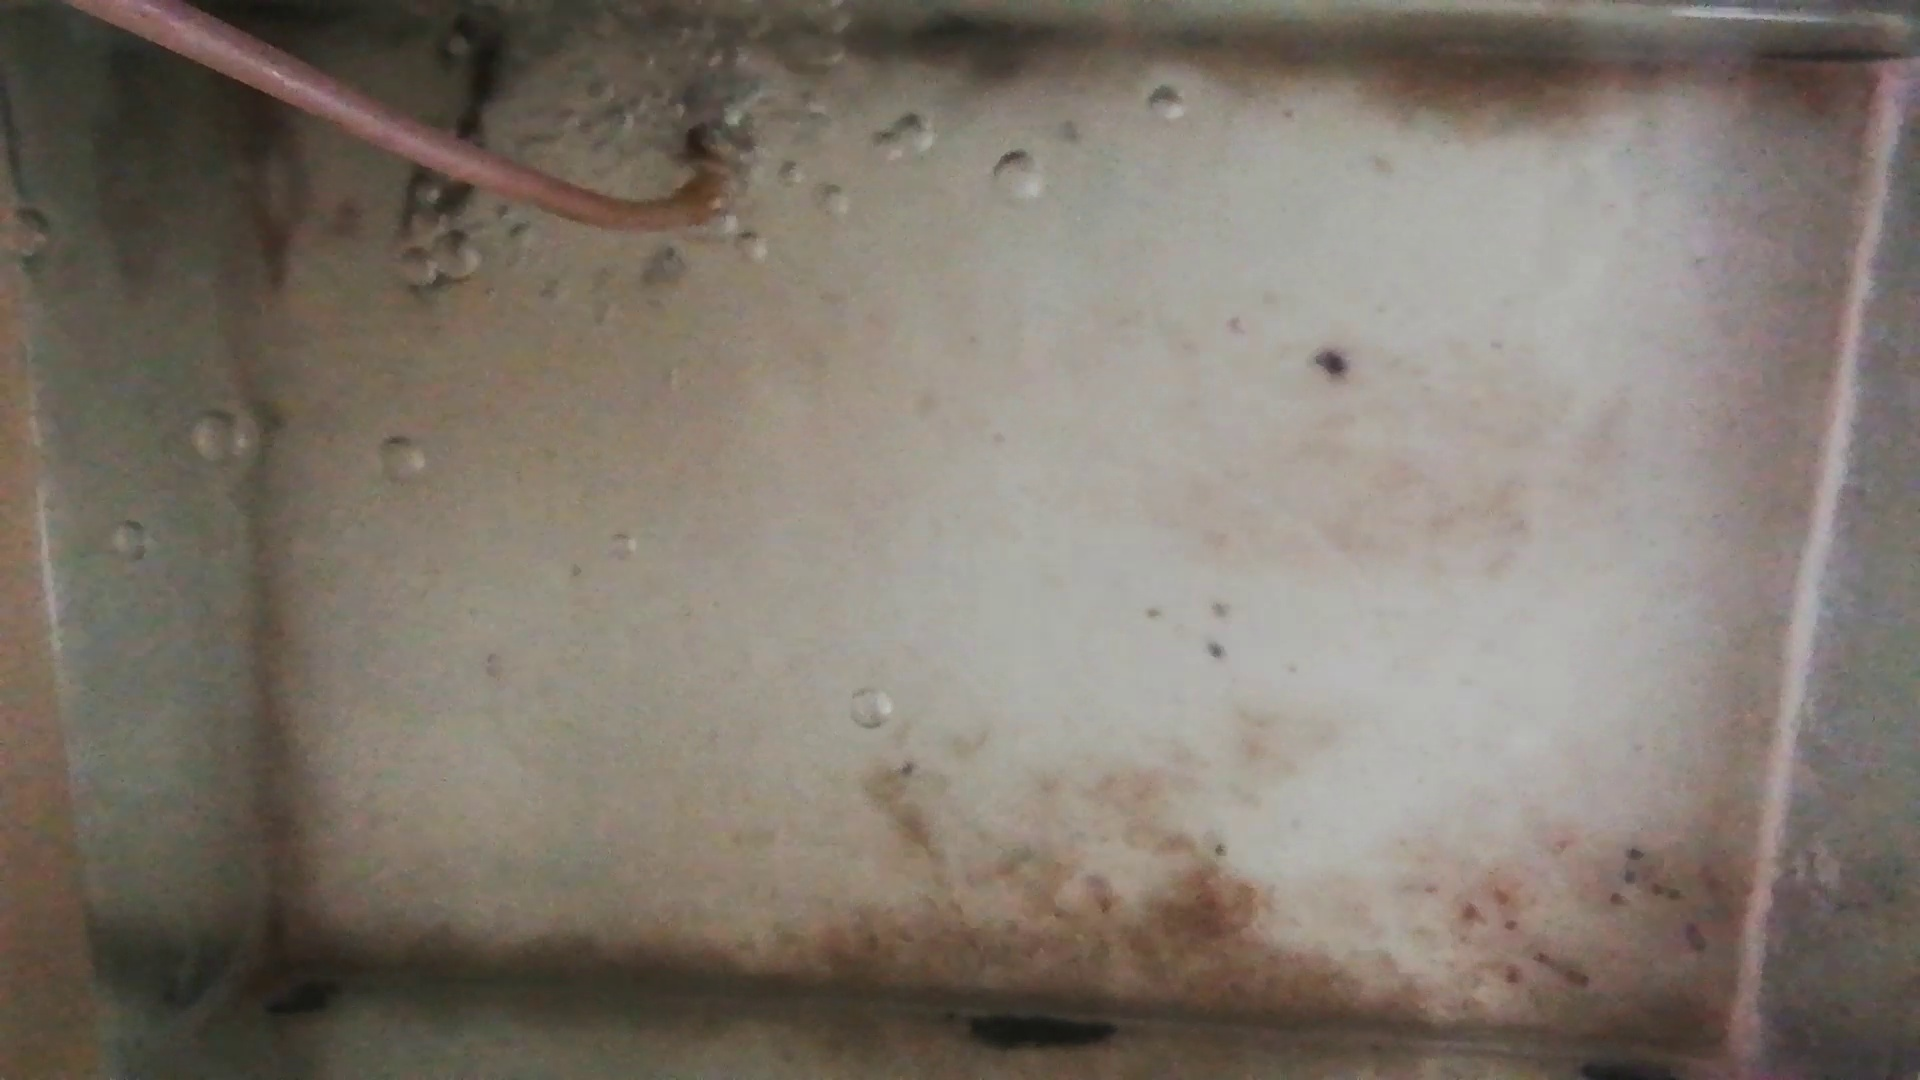fish: (404, 18, 501, 274), (239, 74, 305, 285)
